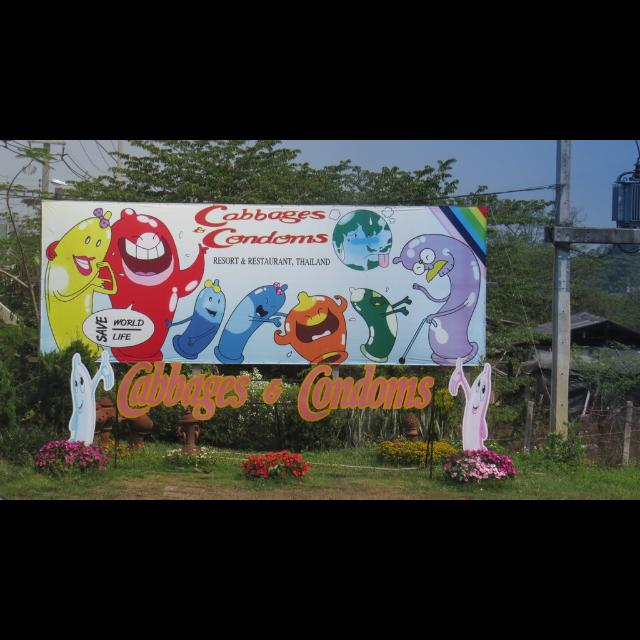Flower: (444, 448, 514, 482), (242, 450, 312, 480), (29, 435, 82, 467)
